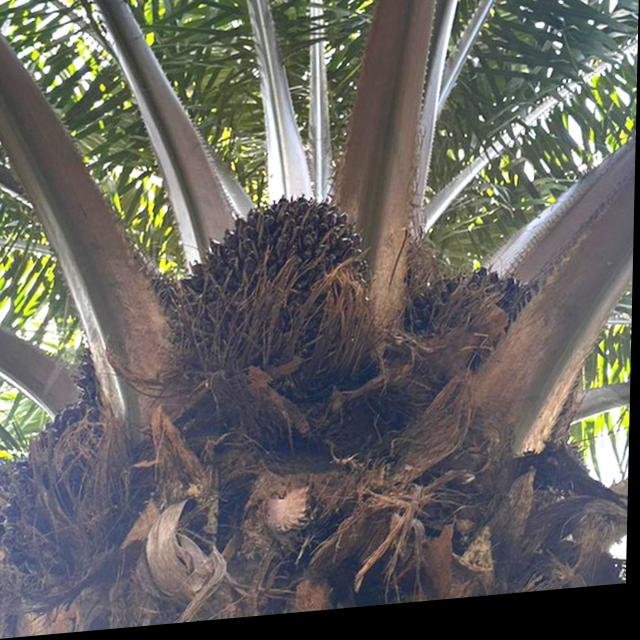almost: (174, 184, 380, 420), (0, 334, 164, 579), (415, 264, 573, 407)
